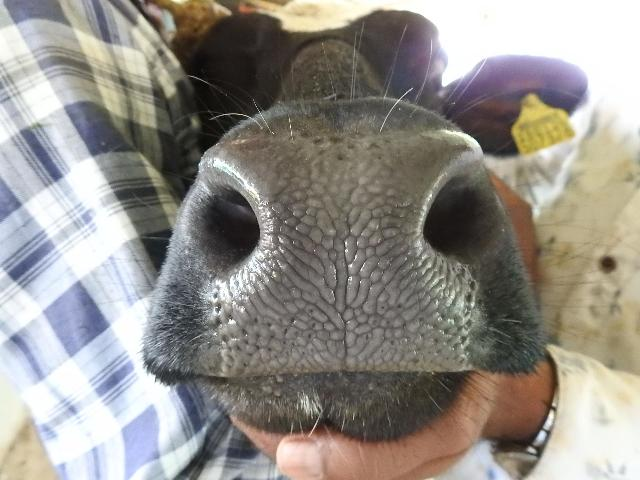Muzzle: (234, 149, 441, 371)
